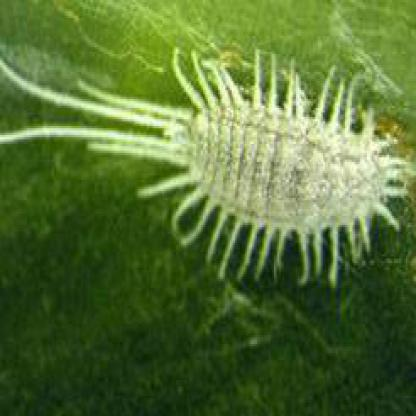mealy bug: (3, 49, 406, 282)
